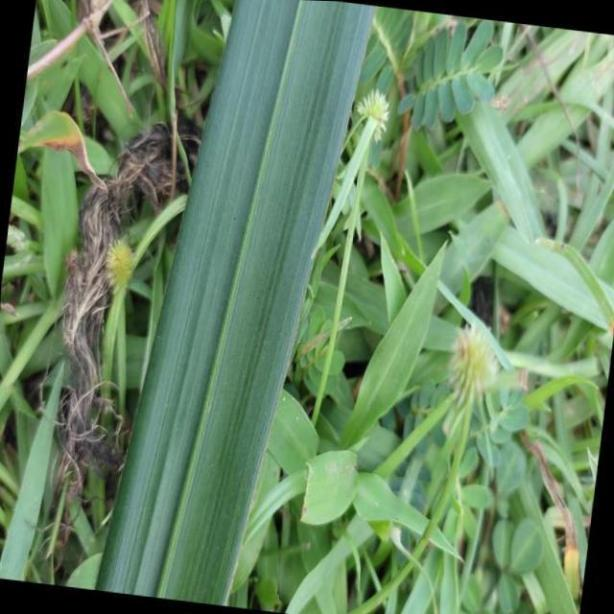Healthy: (91, 3, 376, 609)
